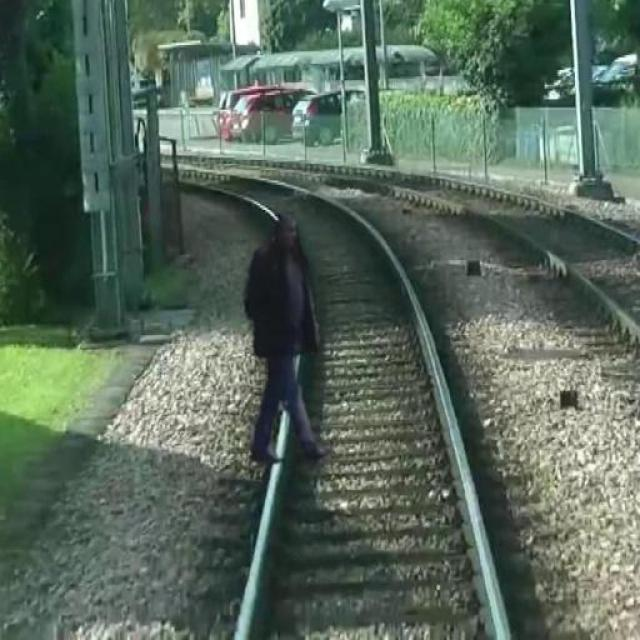people: (242, 208, 340, 470)
